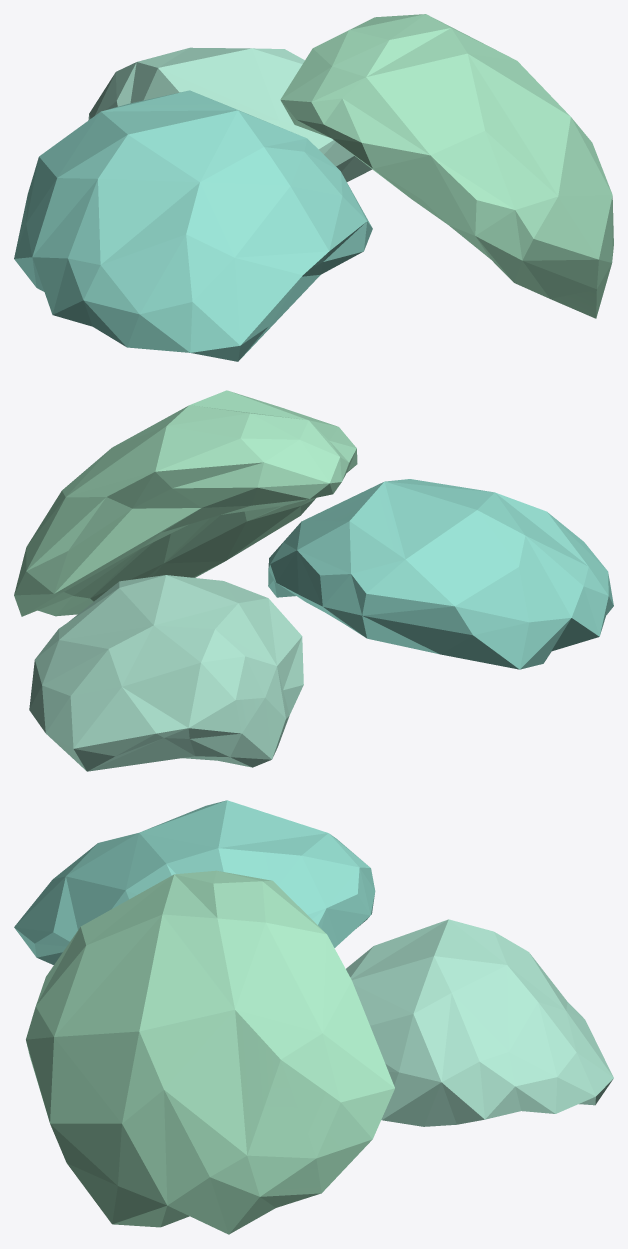
The model's file is Lowpolytree_5_green_superhigh.glb.
3 renders of one model, top to bottom at view 1: azimuth 30°, elevation 25°; view 2: azimuth 150°, elevation 25°; view 3: azimuth 270°, elevation 25°, orthographic. The views are drawn at different scales.
Visible parts, largest first — view 1: Lowpolytree_5_green_Green.002_0; view 2: Lowpolytree_5_green_Green.002_0; view 3: Lowpolytree_5_green_Green.002_0.
Boxes of the visible parts, x1,y1,x2,y2 form: Lowpolytree_5_green_Green.002_0: (14, 14, 613, 361); Lowpolytree_5_green_Green.002_0: (14, 390, 613, 771); Lowpolytree_5_green_Green.002_0: (14, 800, 613, 1234).
Size of the model in its own units: 2.93 by 1.37 by 2.77.
